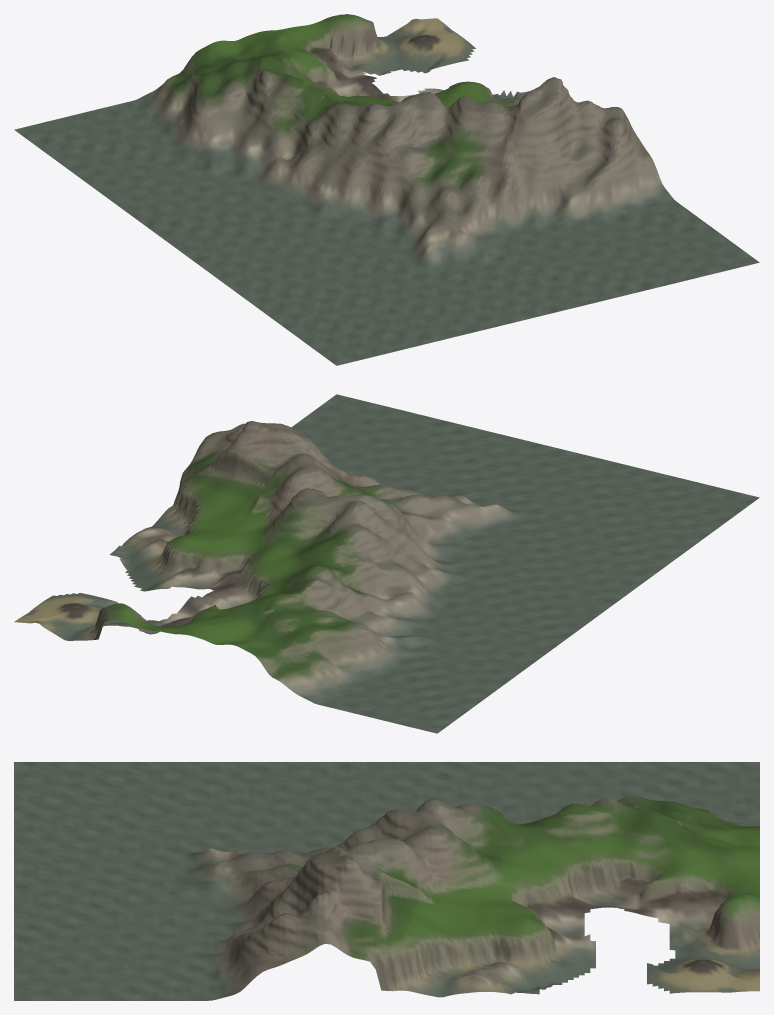
Rendered from coast_tile_x0z3.glb.
3 renders of one model, top to bottom at view 1: azimuth 30°, elevation 25°; view 2: azimuth 150°, elevation 25°; view 3: azimuth 270°, elevation 25°, orthographic. The views are drawn at different scales.
Visible parts, largest first — view 1: coast_tile_x0z3; view 2: coast_tile_x0z3; view 3: coast_tile_x0z3.
Boxes of the visible parts, x1=… form: coast_tile_x0z3: x1=14, y1=14, x2=759, y2=365; coast_tile_x0z3: x1=14, y1=394, x2=759, y2=733; coast_tile_x0z3: x1=14, y1=762, x2=759, y2=1000.
Bounding box in the file's own units: 600 × 127 × 792.
